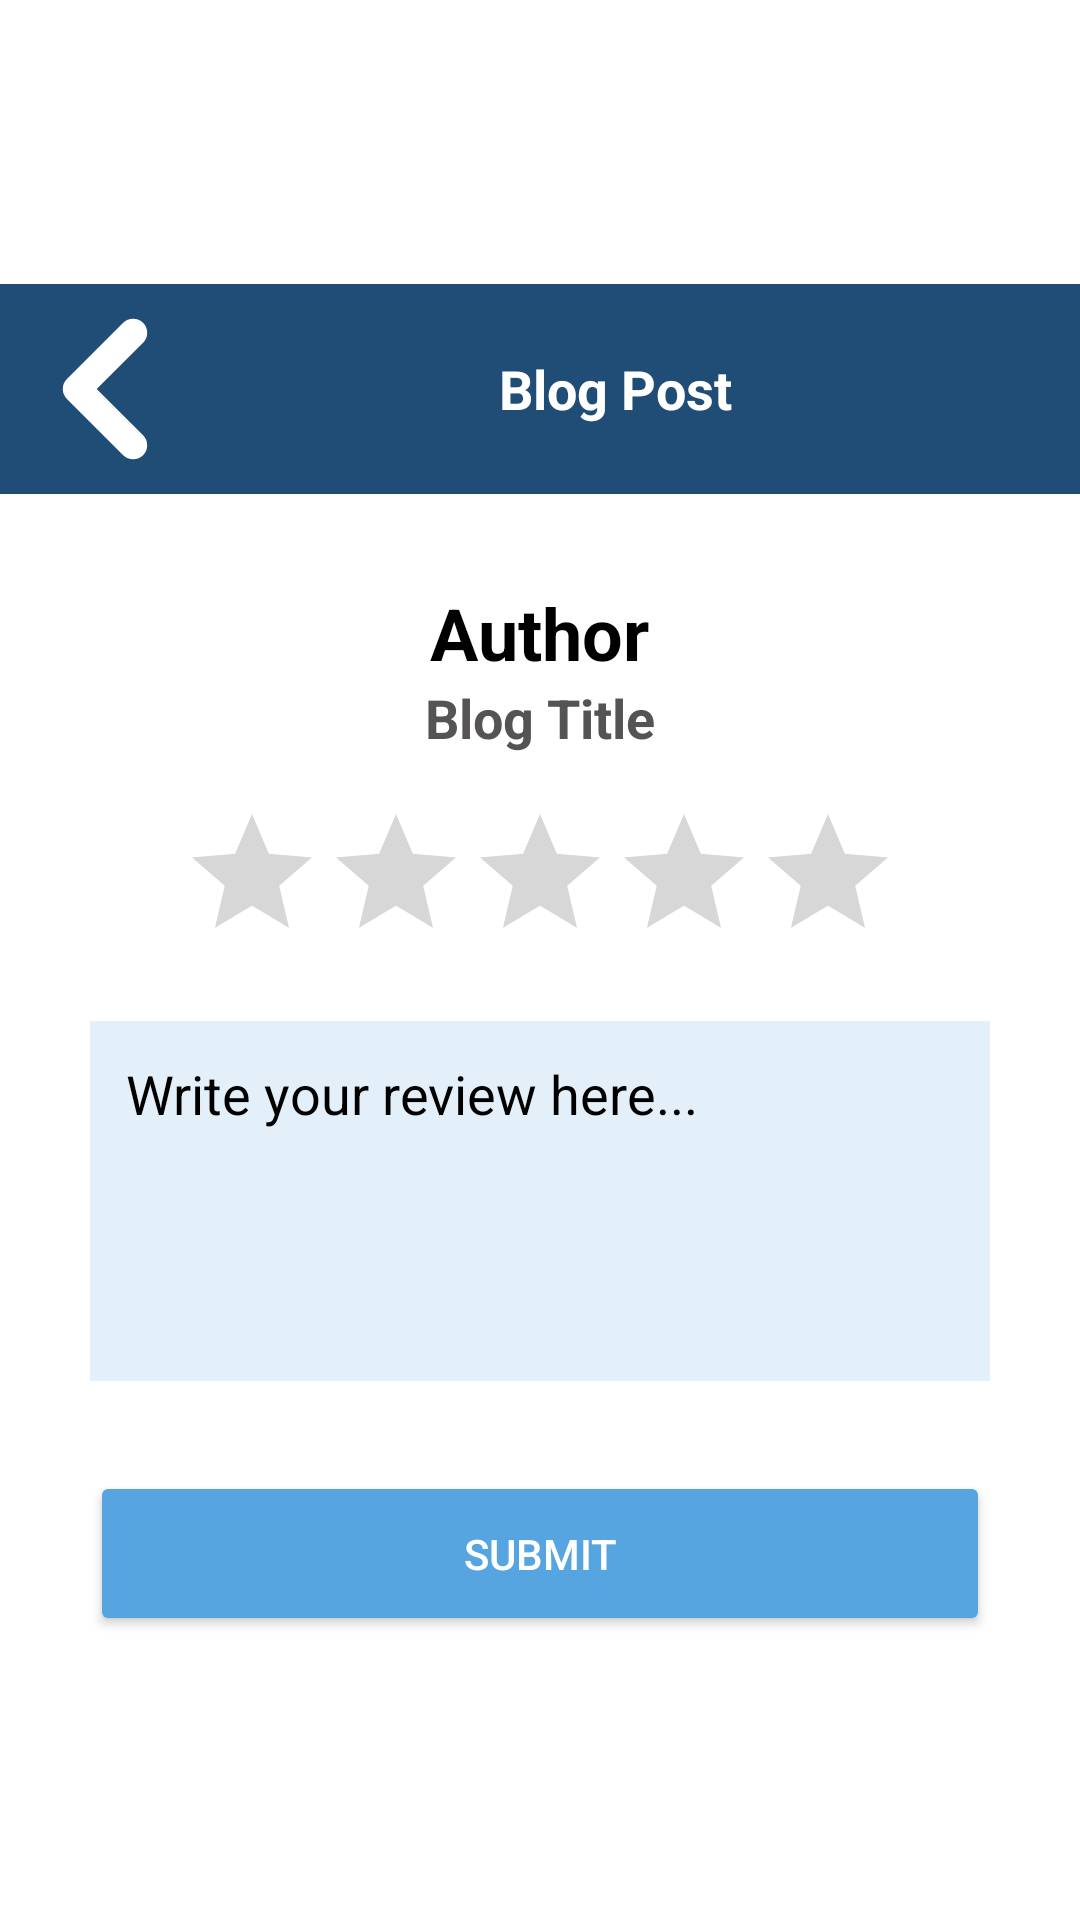

Named icons in this screenshot (1080px×1920px) and their bounding boxes, (x1, y1, x2, y2):
Back: (62, 318, 148, 460)
